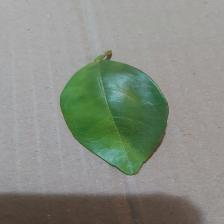greening: (56, 47, 175, 178)
